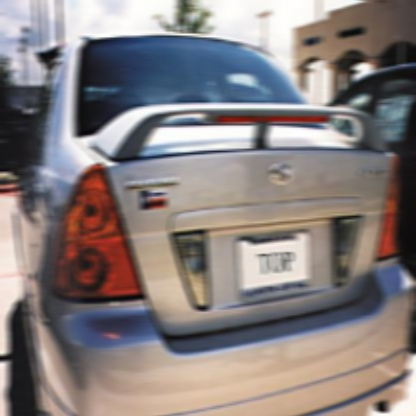Vehicle: (12, 33, 416, 414)
